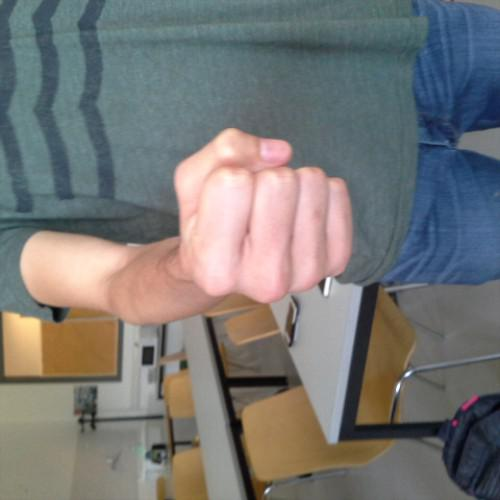rock: (166, 120, 362, 309)
